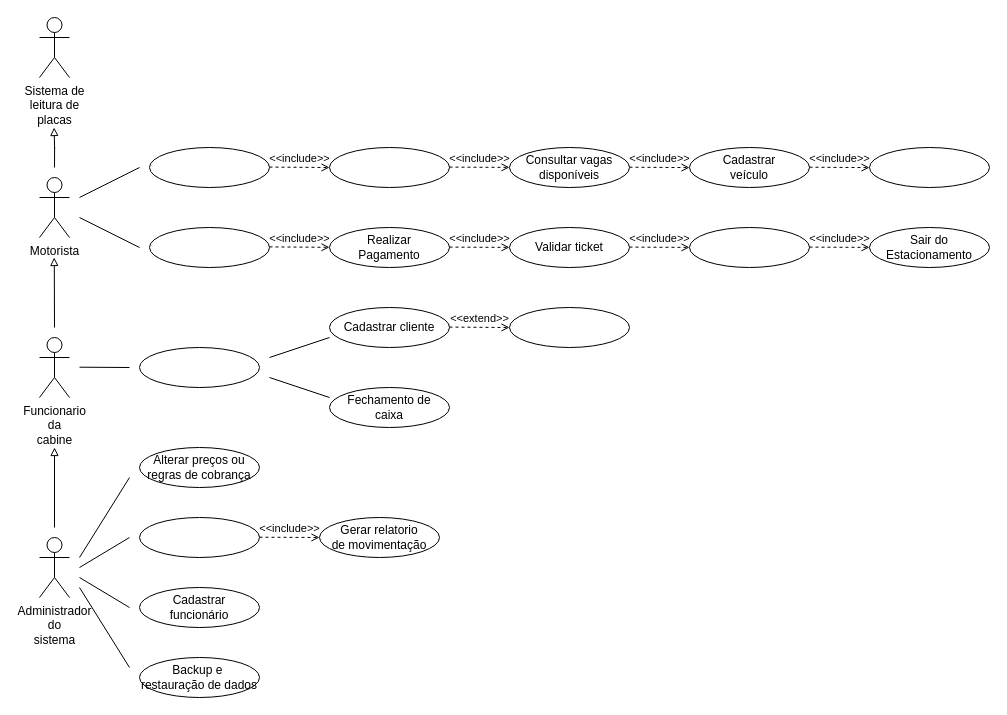
Some shapes in this 1007 by 715 pixel diagram are drawn without their labels. The box of each missing label's shape, as (x1, y1, x2, y2) in pixels:
Consultar movimentação do dia: (138, 516, 260, 558)
Emitir ticket de entrada: (868, 146, 990, 188)
Entrar no estacionamento: (148, 146, 270, 188)
Ler placa na entrada: (328, 146, 450, 188)
Ler placa na saída: (688, 226, 810, 268)
Login no sistema: (138, 346, 260, 388)
Reservar vaga: (508, 306, 630, 348)
Verificar tempo de permanencia: (148, 226, 270, 268)
